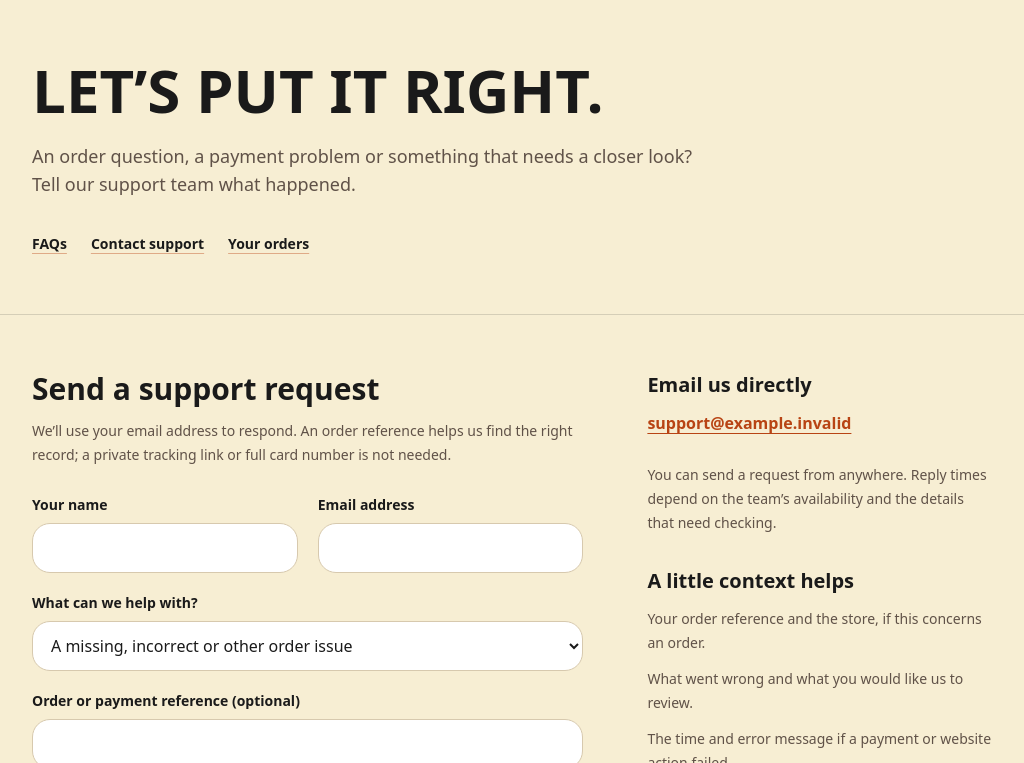
Test: Support form feedback and accessibility › starts a new request identity after editing a failed payload
Type "Synthetic Customer" into the field labelled "Your name" at (165, 548), box left=32, top=523, right=298, bottom=573
Type "synthetic@example.invalid" into the field labelled "Email address" at (451, 548), box left=318, top=523, right=583, bottom=573
(page scrolled)
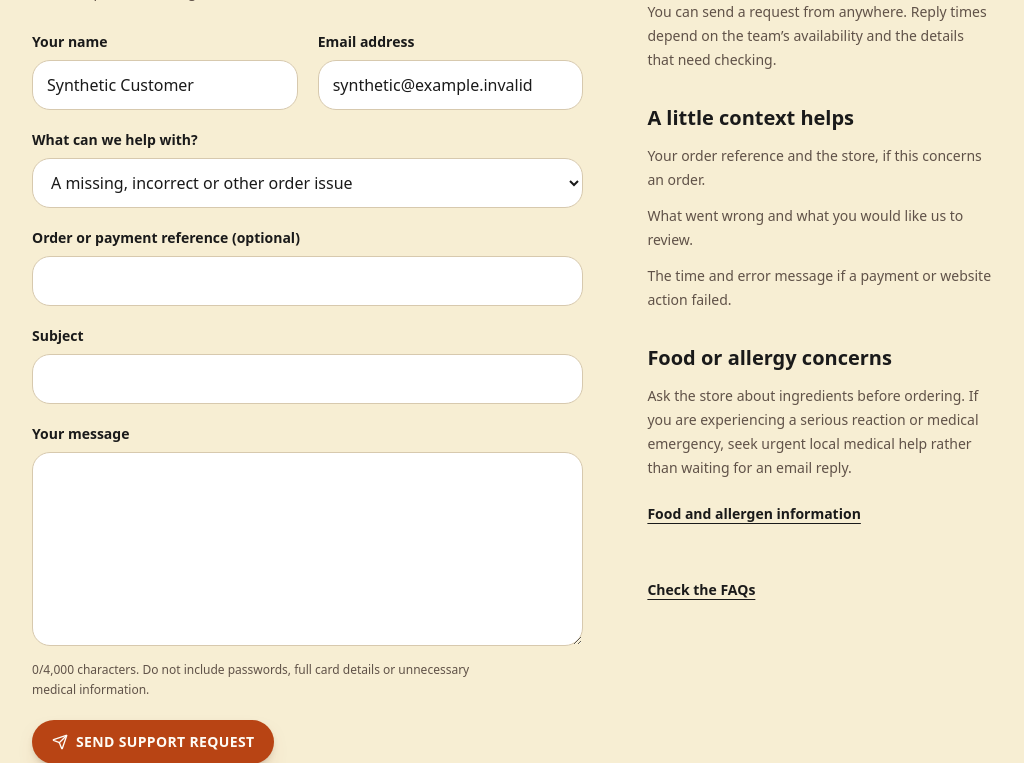
Type "A synthetic support question" into the field labelled "Subject" at (308, 379), box left=32, top=354, right=583, bottom=404
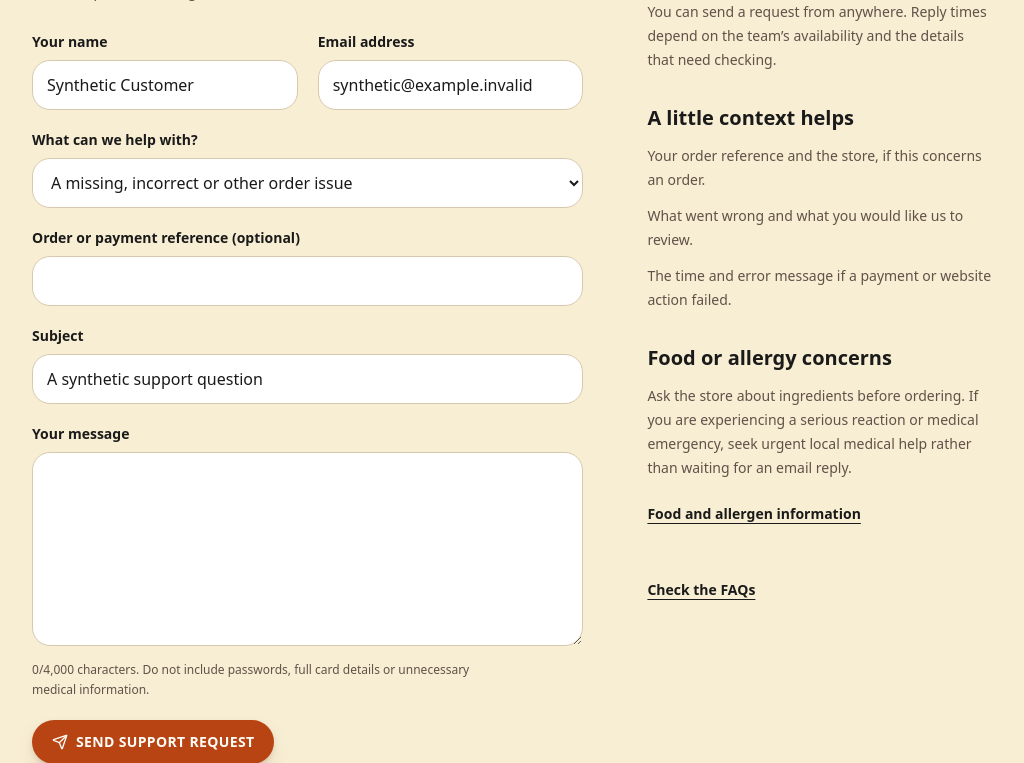
Type "Please review this harmless synthetic support question." into the text box labelled "Your message" at (308, 549), box left=32, top=452, right=583, bottom=646
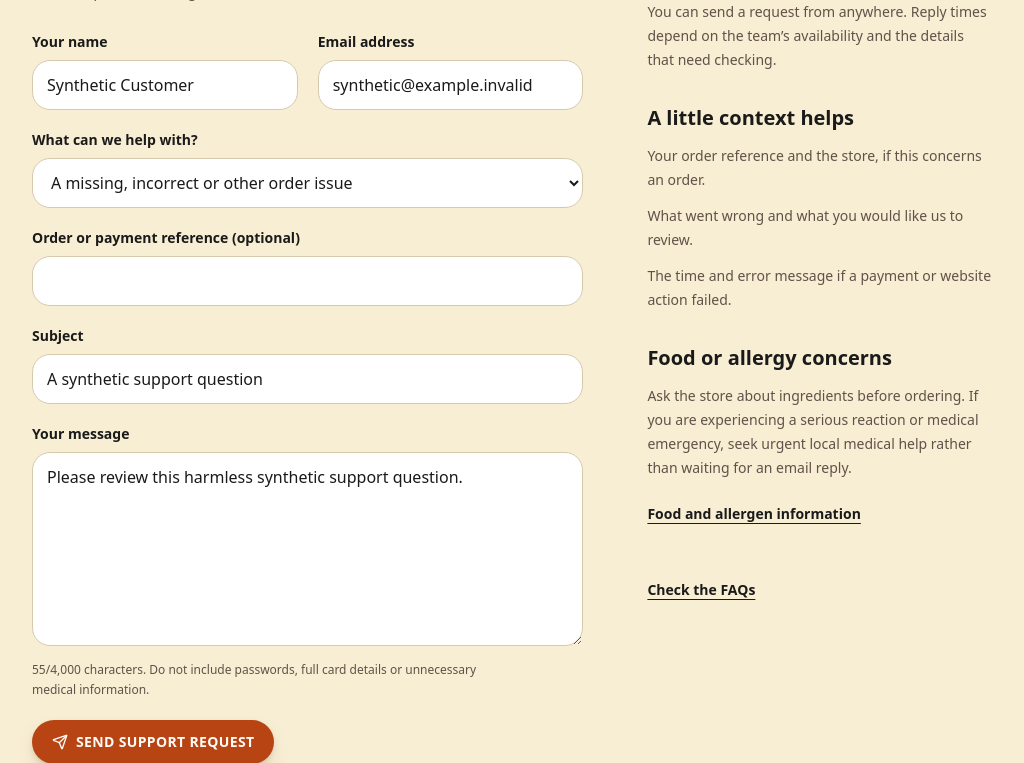
Click the button "Send support request" at (153, 742), box left=32, top=720, right=274, bottom=762
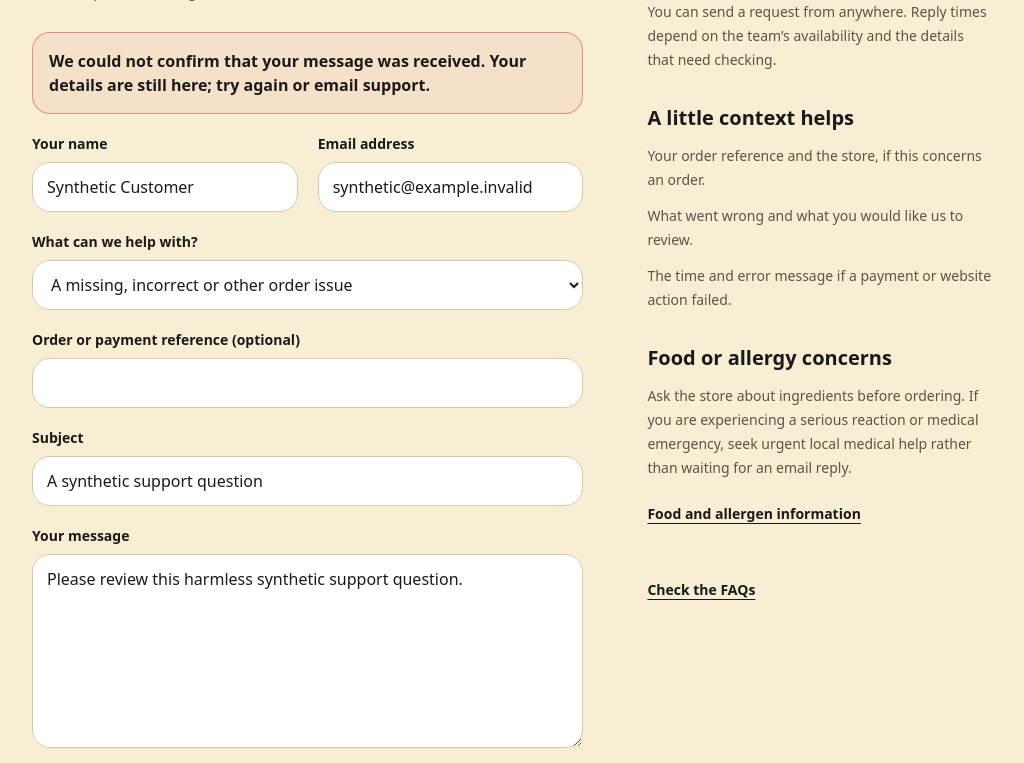
Check: the message is shown, box left=32, top=32, right=583, bottom=114
Replace the text in the field labelled "Subject" with "An edited synthetic support question" at (308, 481), box left=32, top=456, right=583, bottom=506
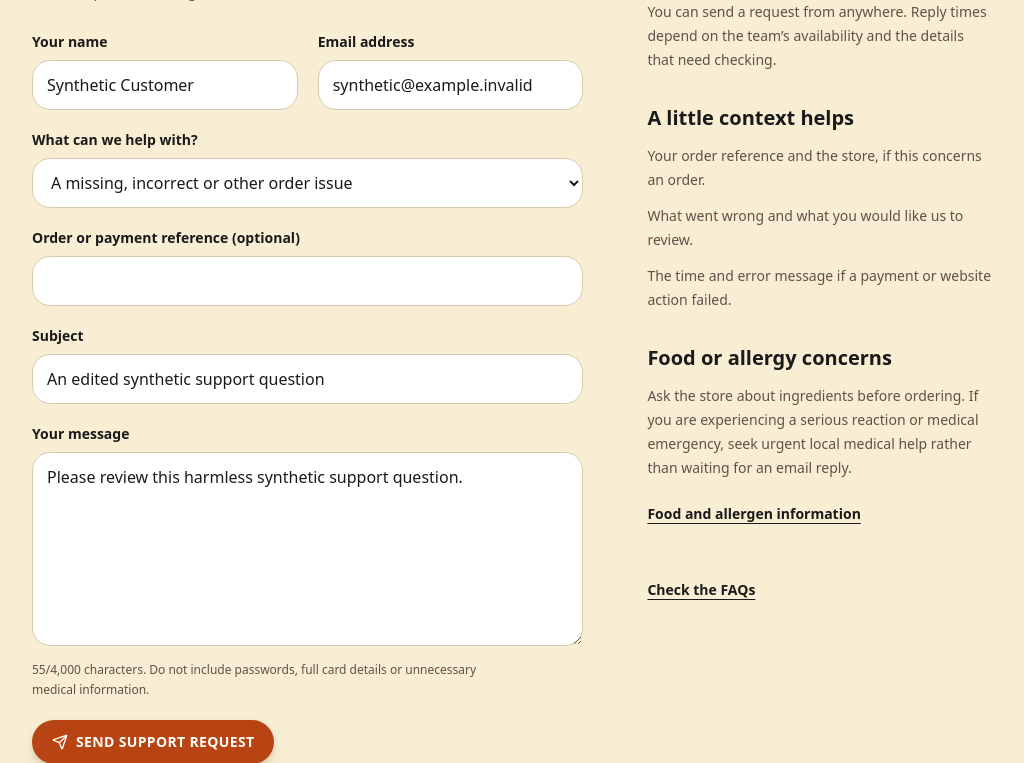
Click the button "Send support request" at (153, 742), box left=32, top=720, right=274, bottom=762
(page scrolled)
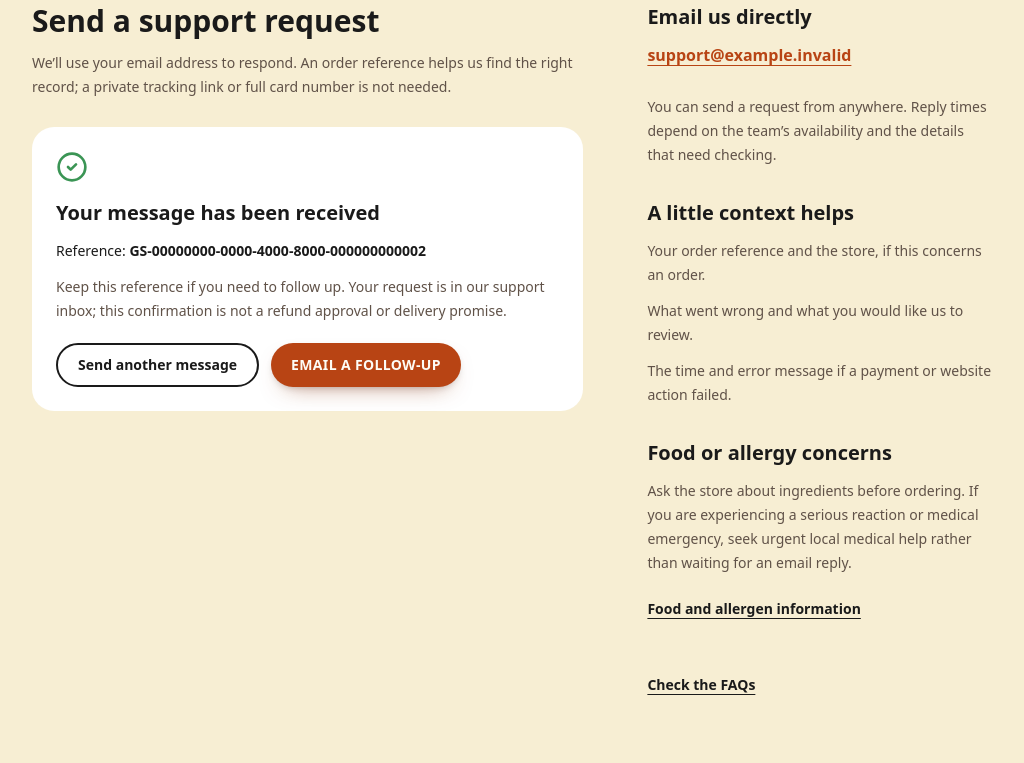
Check: the message is shown, box left=32, top=127, right=583, bottom=411
